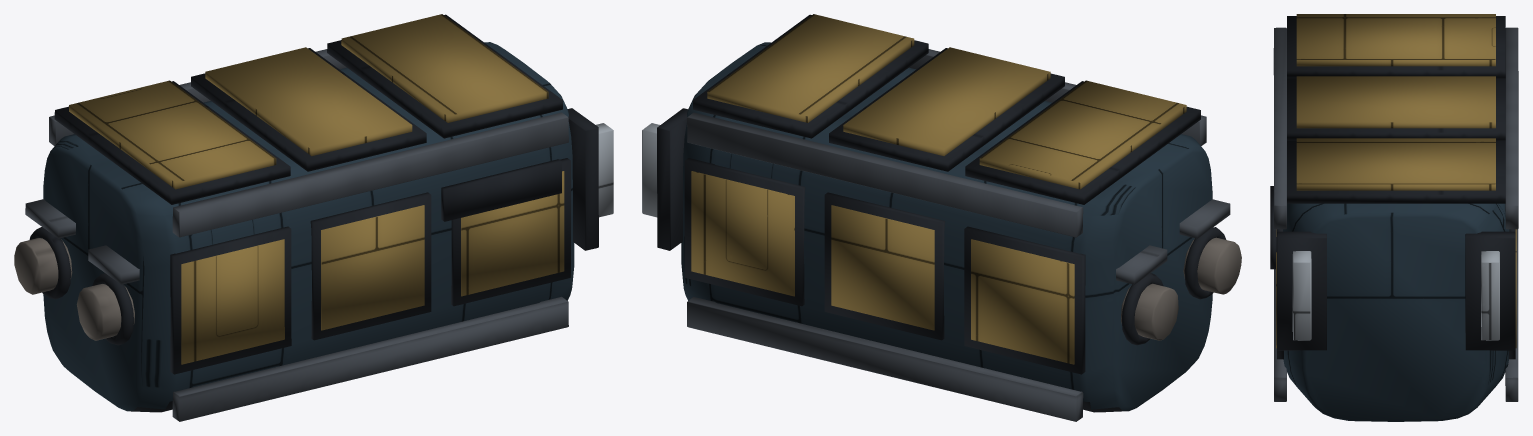
The model's file is ops_battery_cassette_lod2.glb.
The picture shows the model from 3 angles, left to right: view 1: azimuth 30°, elevation 25°; view 2: azimuth 150°, elevation 25°; view 3: azimuth 270°, elevation 25°; orthographic projection. The views are drawn at different scales.
Parts seen in each view (by area): view 1: LOD2_Hull, LOD2_Armor, LOD2_MechanicalDark, LOD2_Mechanical, LOD2_Ceramic, LOD2_BrushedMetal; view 2: LOD2_Hull, LOD2_Armor, LOD2_MechanicalDark, LOD2_Mechanical, LOD2_Ceramic, LOD2_BrushedMetal; view 3: LOD2_Armor, LOD2_Hull, LOD2_MechanicalDark, LOD2_Mechanical, LOD2_BrushedMetal.
Part boxes in pixels (x1=…): LOD2_Hull: x1=69, y1=14, x2=564, y2=364; LOD2_Armor: x1=43, y1=42, x2=574, y2=411; LOD2_MechanicalDark: x1=29, y1=14, x2=598, y2=412; LOD2_Mechanical: x1=25, y1=49, x2=568, y2=421; LOD2_Ceramic: x1=14, y1=238, x2=134, y2=340; LOD2_BrushedMetal: x1=596, y1=123, x2=613, y2=217; LOD2_Hull: x1=691, y1=14, x2=1186, y2=364; LOD2_Armor: x1=681, y1=42, x2=1212, y2=410; LOD2_MechanicalDark: x1=657, y1=14, x2=1226, y2=412; LOD2_Mechanical: x1=687, y1=49, x2=1230, y2=421; LOD2_Ceramic: x1=1121, y1=237, x2=1241, y2=340; LOD2_BrushedMetal: x1=642, y1=123, x2=659, y2=217; LOD2_Armor: x1=1283, y1=203, x2=1509, y2=421; LOD2_Hull: x1=1276, y1=14, x2=1516, y2=348; LOD2_MechanicalDark: x1=1270, y1=16, x2=1515, y2=359; LOD2_Mechanical: x1=1273, y1=27, x2=1518, y2=401; LOD2_BrushedMetal: x1=1292, y1=251, x2=1499, y2=340.
Size of the model in its own units: 2.76 by 1.26 by 1.27.
6 materials, 6 textured.
